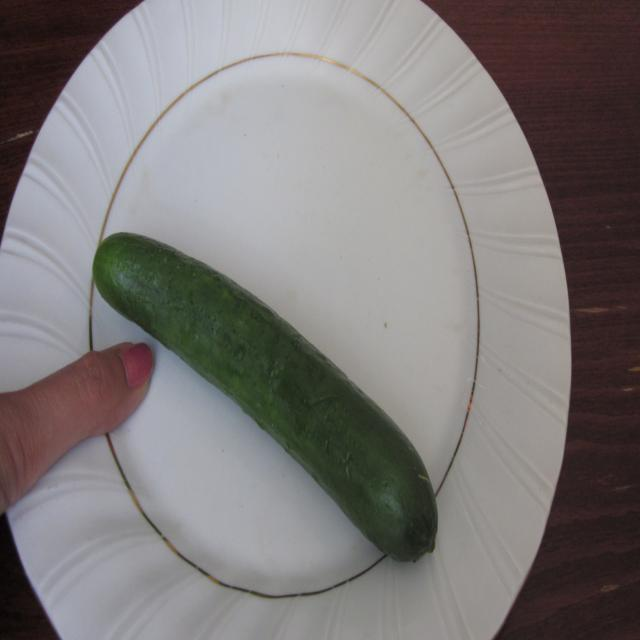cucumber: (85, 207, 456, 571)
